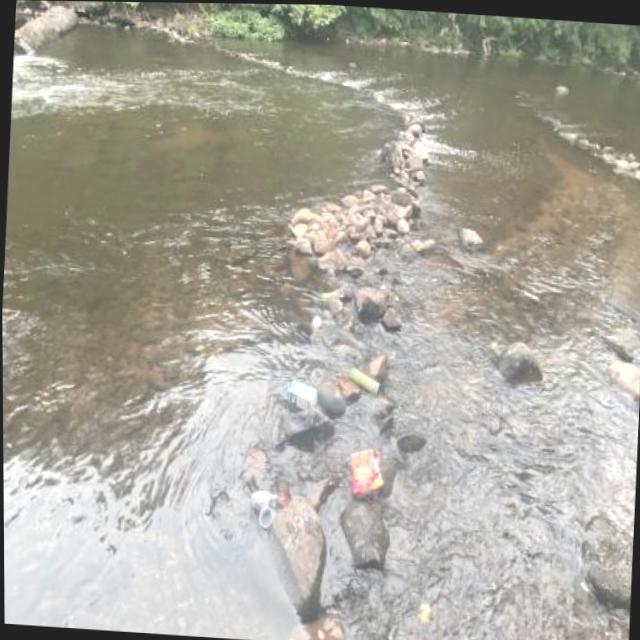Can-Metal: (346, 365, 382, 397)
Cardboard: (347, 444, 387, 499), (281, 377, 320, 414)
Plastic: (248, 487, 286, 518)
